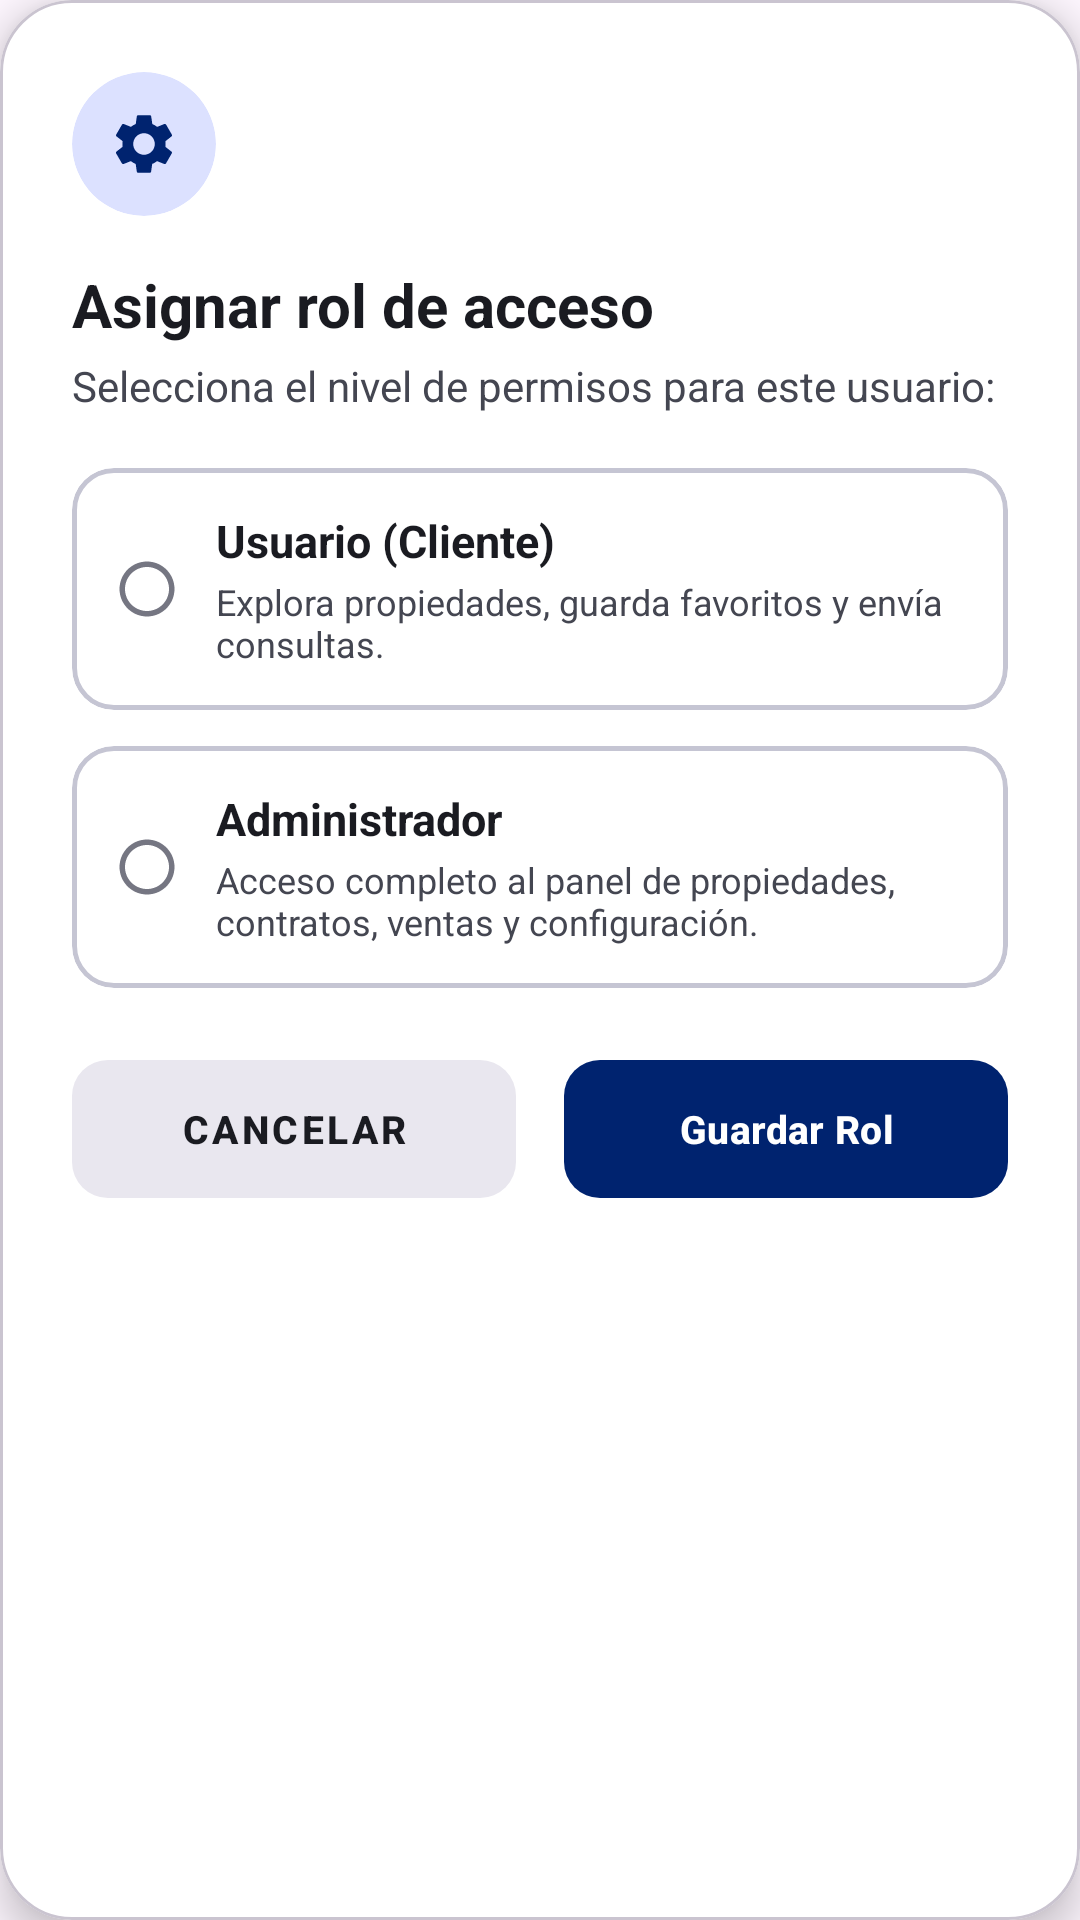

Where to tap for icons on this 1080 × 1920 app screen, as point (x, y):
circle: point (147, 589), point (147, 867)
settings admin: point (144, 144)
